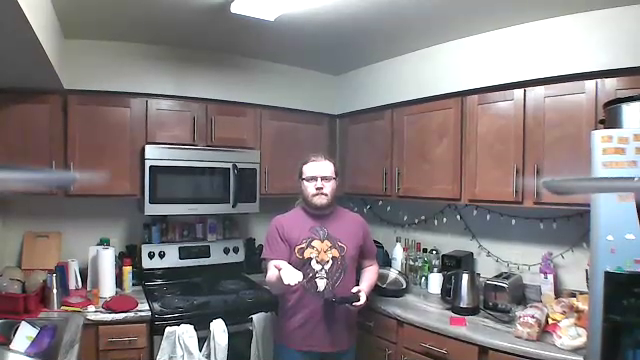land: (272, 259, 306, 286)
